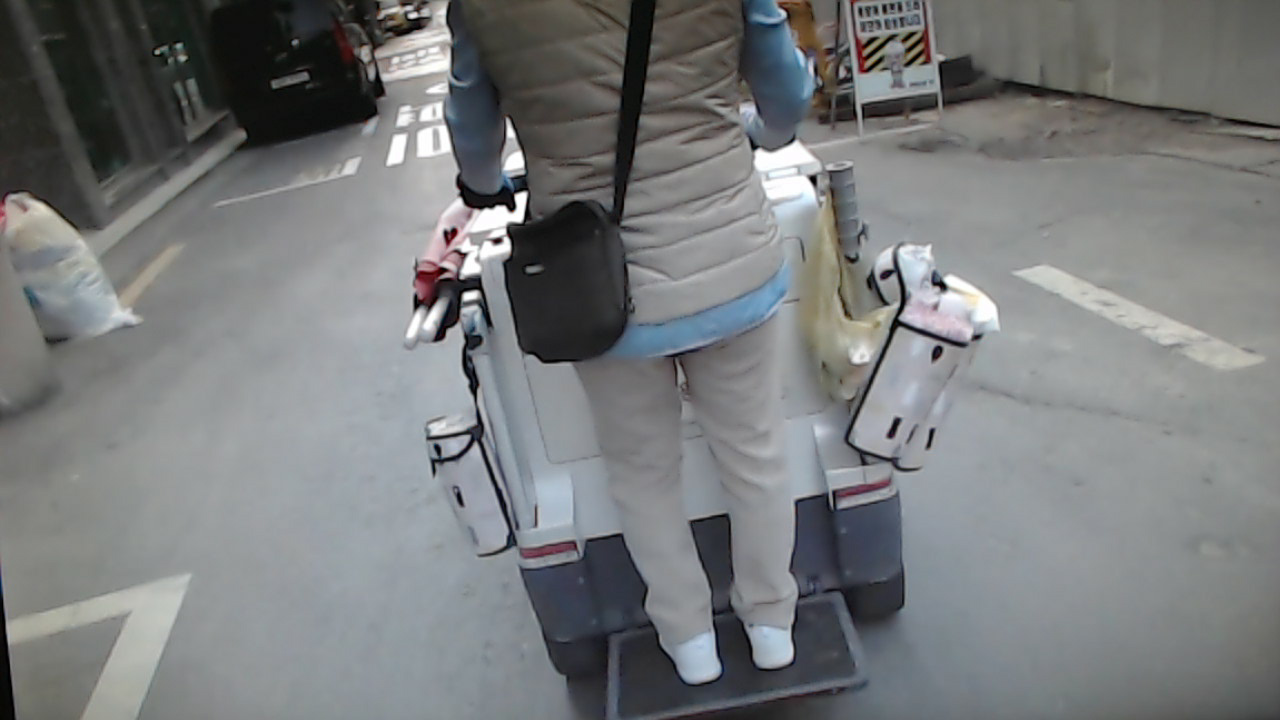Yakurut: (443, 4, 828, 694)
